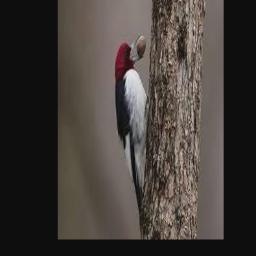Woodpecker: (115, 34, 148, 235)
